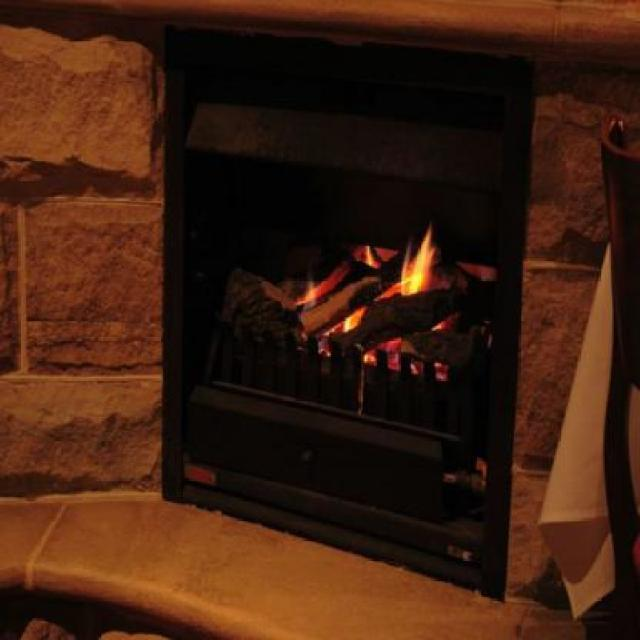Fire: (396, 224, 438, 304), (296, 263, 349, 301), (368, 333, 408, 370), (358, 236, 390, 273), (332, 301, 361, 332), (433, 314, 450, 332)
